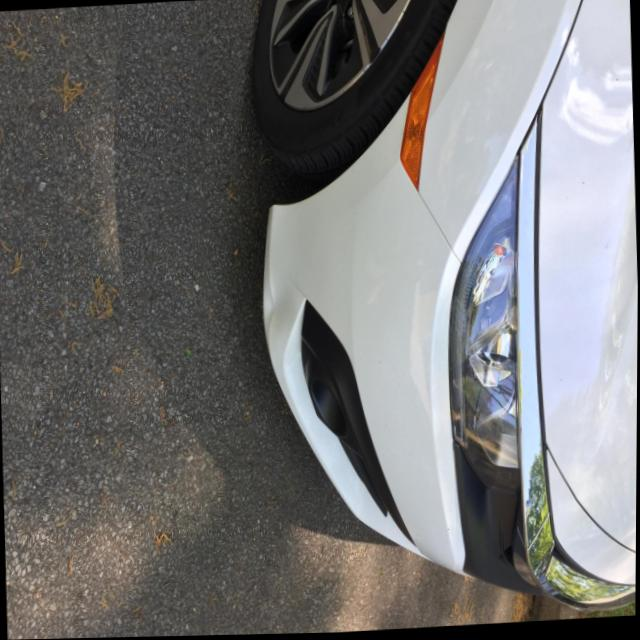Dent: (257, 261, 291, 340)
